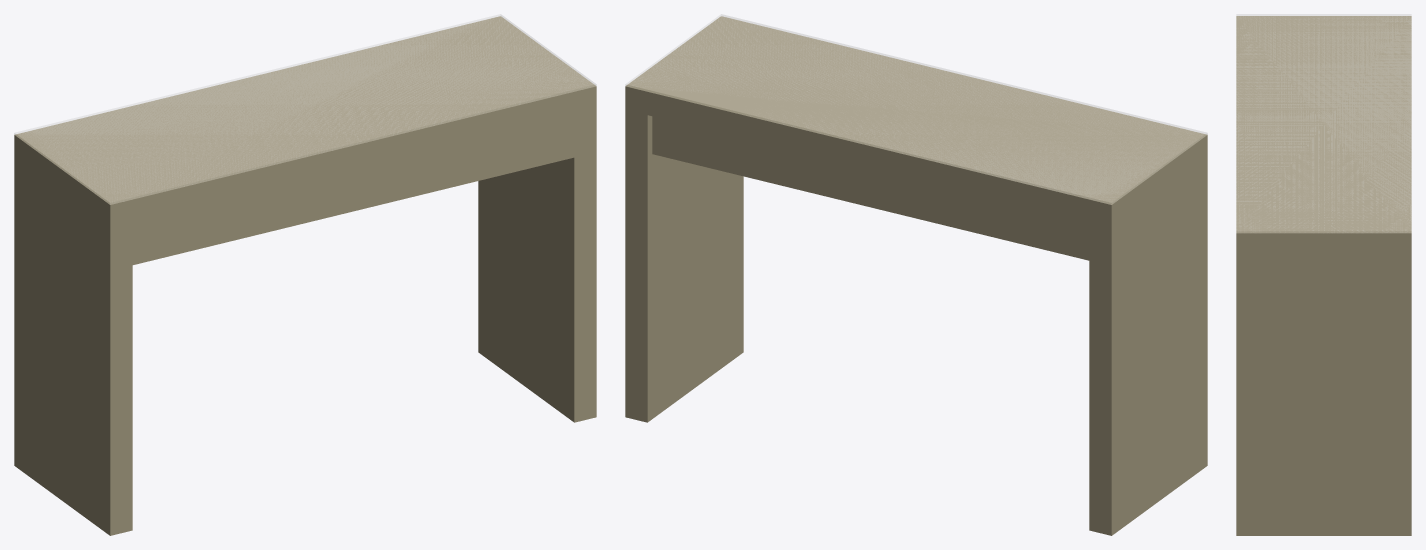
3 views of the same model, side by side, from view 1: azimuth 30°, elevation 25°; view 2: azimuth 150°, elevation 25°; view 3: azimuth 270°, elevation 25° (orthographic). The views are drawn at different scales.
Parts seen in each view (by area): view 1: Mesh2 Group1 Model, Mesh1 Group2 Group1 Model; view 2: Mesh2 Group1 Model, Mesh1 Group2 Group1 Model; view 3: Mesh2 Group1 Model, Mesh1 Group2 Group1 Model.
Boxes of the visible parts, box(x1,y1,x2,y2) form: Mesh2 Group1 Model: box(14, 16, 596, 535); Mesh1 Group2 Group1 Model: box(14, 14, 596, 204); Mesh2 Group1 Model: box(625, 16, 1207, 535); Mesh1 Group2 Group1 Model: box(625, 14, 1207, 204); Mesh2 Group1 Model: box(1236, 16, 1411, 535); Mesh1 Group2 Group1 Model: box(1236, 14, 1411, 232).
Size of the model in its own units: 0.8046 by 0.5263 by 0.2749.
